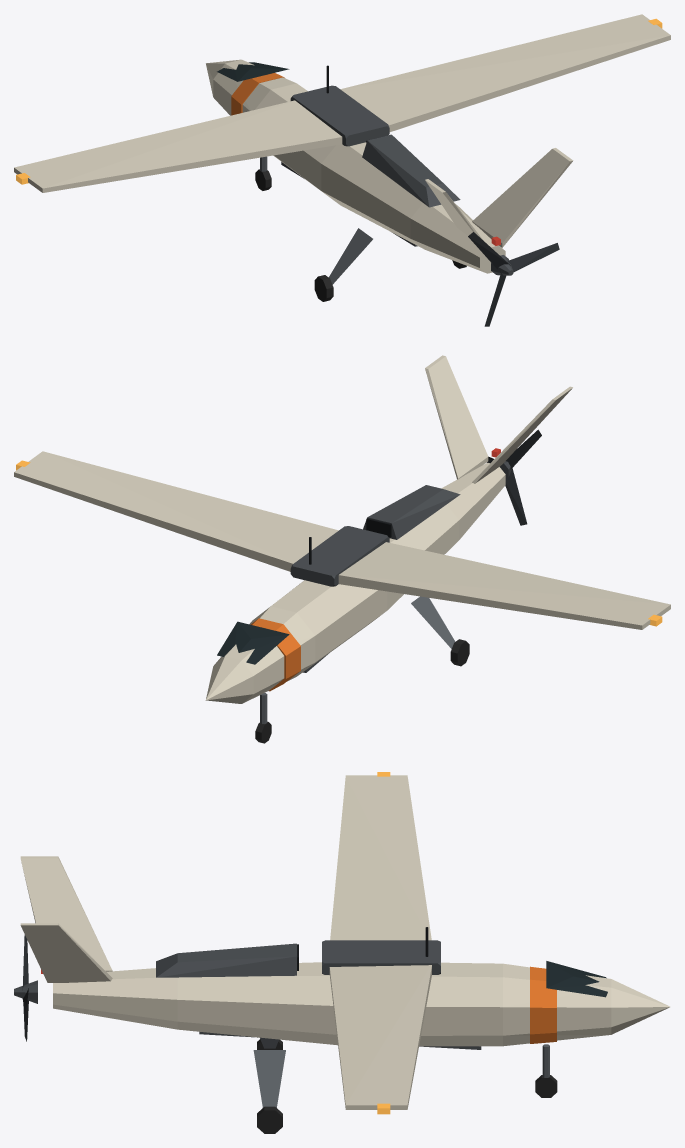
File: hum_air_swift.glb
The picture shows the model from 3 angles, top to bottom: view 1: azimuth 30°, elevation 25°; view 2: azimuth 150°, elevation 25°; view 3: azimuth 270°, elevation 25°; orthographic projection. The views are drawn at different scales.
Visible parts, largest first — view 1: airframe, rotor_main; view 2: airframe, rotor_main; view 3: airframe, rotor_main.
Boxes of the visible parts, x1=… form: airframe: x1=14, y1=14, x2=670, y2=301; rotor_main: x1=468, y1=232, x2=559, y2=326; airframe: x1=14, y1=355, x2=670, y2=743; rotor_main: x1=487, y1=429, x2=541, y2=525; airframe: x1=20, y1=772, x2=670, y2=1133; rotor_main: x1=14, y1=935, x2=37, y2=1041.
Bounding box in the file's own units: 7.34 × 2.09 × 6.06.
Materials: 2 (2 with a texture image).
